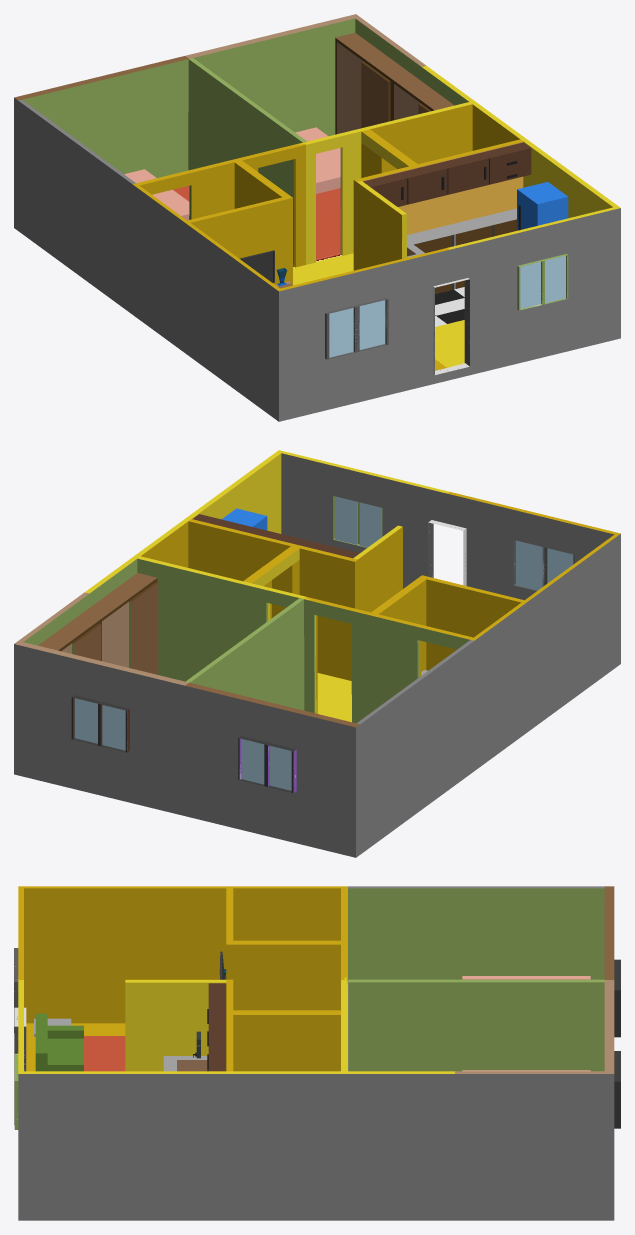
The model's file is housev3.gltf.
3 renders of one model, top to bottom at view 1: azimuth 30°, elevation 25°; view 2: azimuth 150°, elevation 25°; view 3: azimuth 270°, elevation 25°, orthographic. The views are drawn at different scales.
Parts seen in each view (by area): view 1: Cube, Fridge; view 2: Cube, Fridge; view 3: Cube, Sofa, Carpet.
Boxes of the visible parts, x1,y1,x2,y2 form: Cube: (14,14,620,421); Fridge: (517,182,568,230); Cube: (14,450,620,857); Fridge: (221,508,267,530); Cube: (14,886,620,1220); Sofa: (35,1013,83,1071); Carpet: (84,1036,125,1071).
Size of the model in its own units: 11.93 by 4.35 by 16.3.
1 material, 1 textured.
